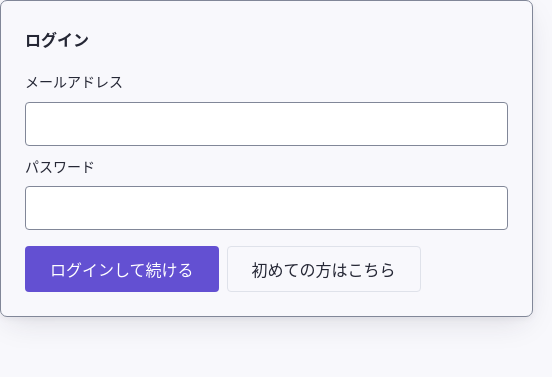
Scenario: AuthPanel › shows distinct Japanese copy for invalidCredentials
Type "reader@example.com" into the field labelled "メールアドレス" at (266, 124), box [25, 102, 508, 146]
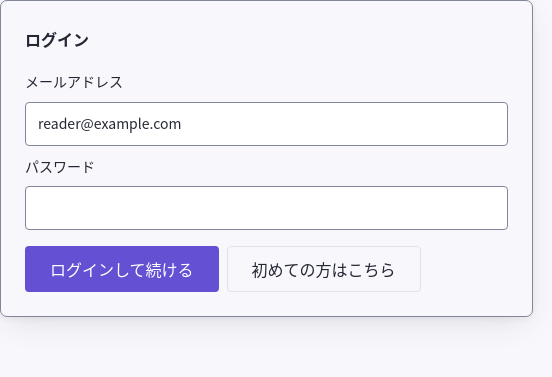
Type "password" into the password field labelled "パスワード" at (266, 208), box [25, 186, 508, 230]
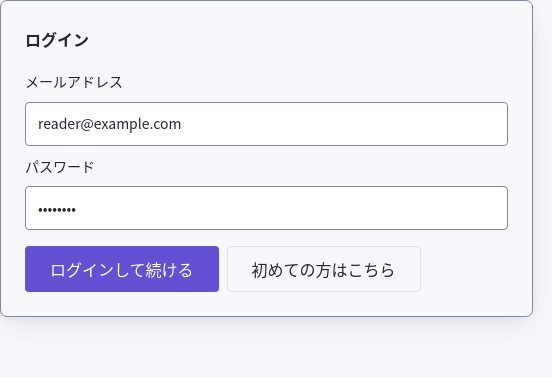
Click the button "ログインして続ける" at (122, 269), box [25, 246, 218, 292]
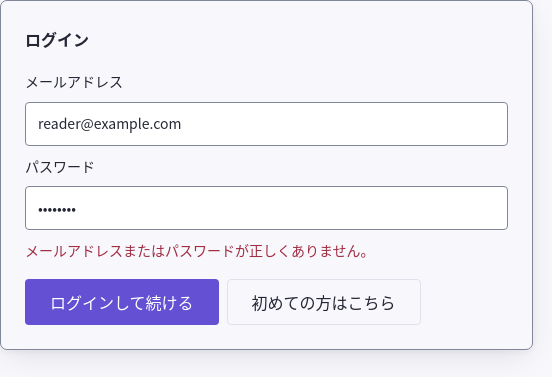
expect the message reads "メールアドレスまたはパスワードが正しくありません。": met, box [25, 240, 375, 260]
